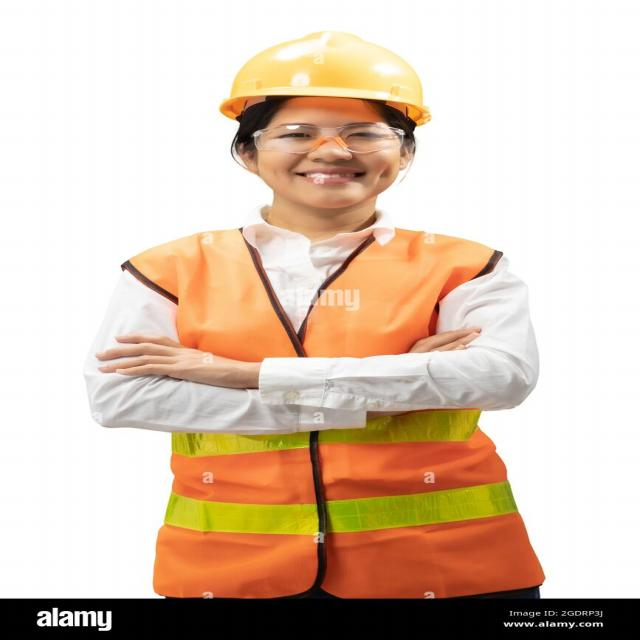Reflective-Jacket: (126, 223, 548, 602)
Safety-Helmet: (215, 28, 432, 122)
